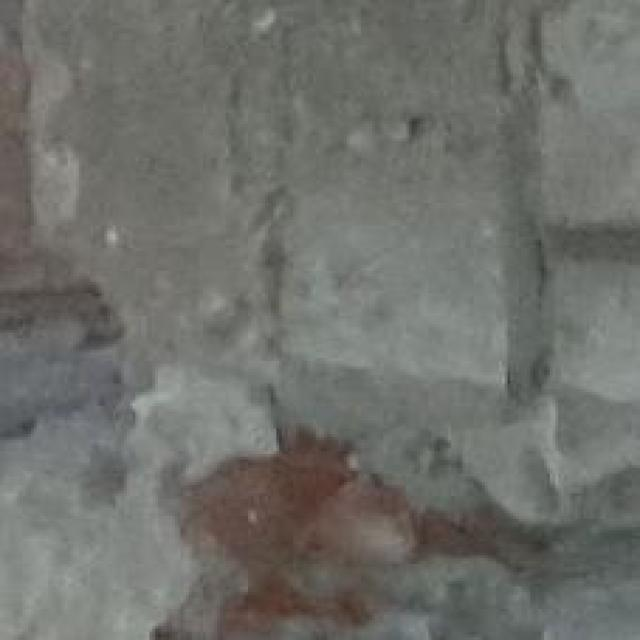Crack: (6, 234, 640, 639)
